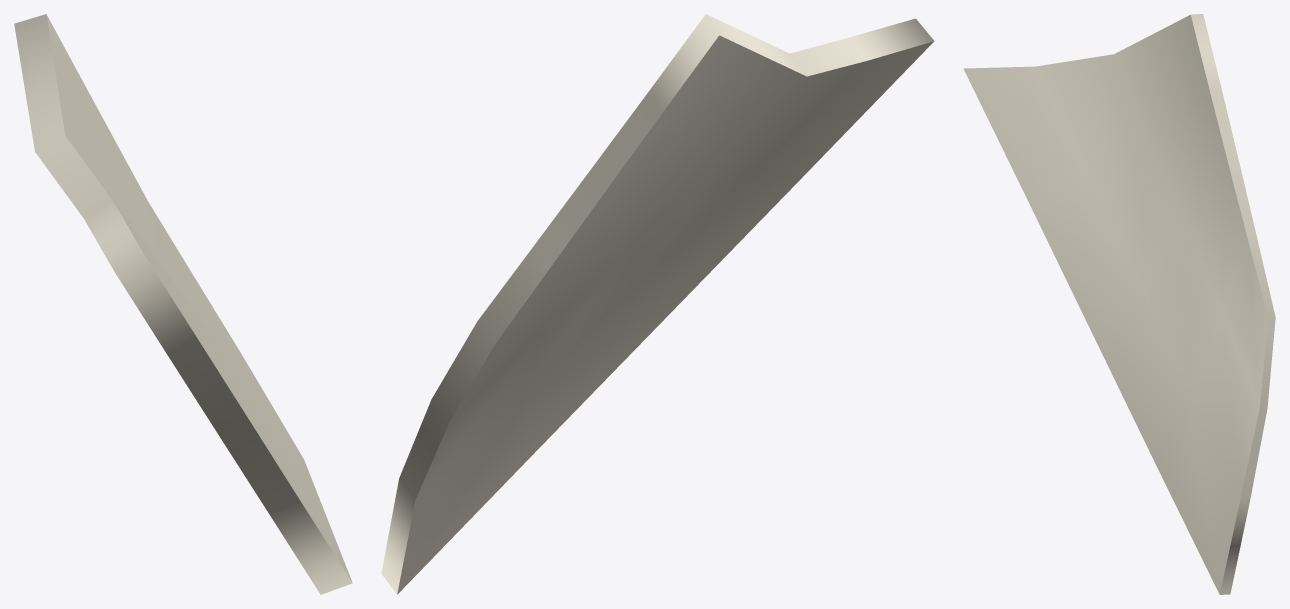
The picture shows the model from 3 angles, left to right: view 1: azimuth 30°, elevation 25°; view 2: azimuth 150°, elevation 25°; view 3: azimuth 270°, elevation 25°; orthographic projection. The views are drawn at different scales.
Parts seen in each view (by area): view 1: ZA_b484a60c2197eb3b; view 2: ZA_b484a60c2197eb3b; view 3: ZA_b484a60c2197eb3b.
Part boxes in pixels (x1,y1,x2,y2): ZA_b484a60c2197eb3b: [14, 14, 352, 594]; ZA_b484a60c2197eb3b: [381, 14, 934, 594]; ZA_b484a60c2197eb3b: [963, 14, 1275, 594].
Size of the model in its own units: 0.014 by 0.0217 by 0.0129.
